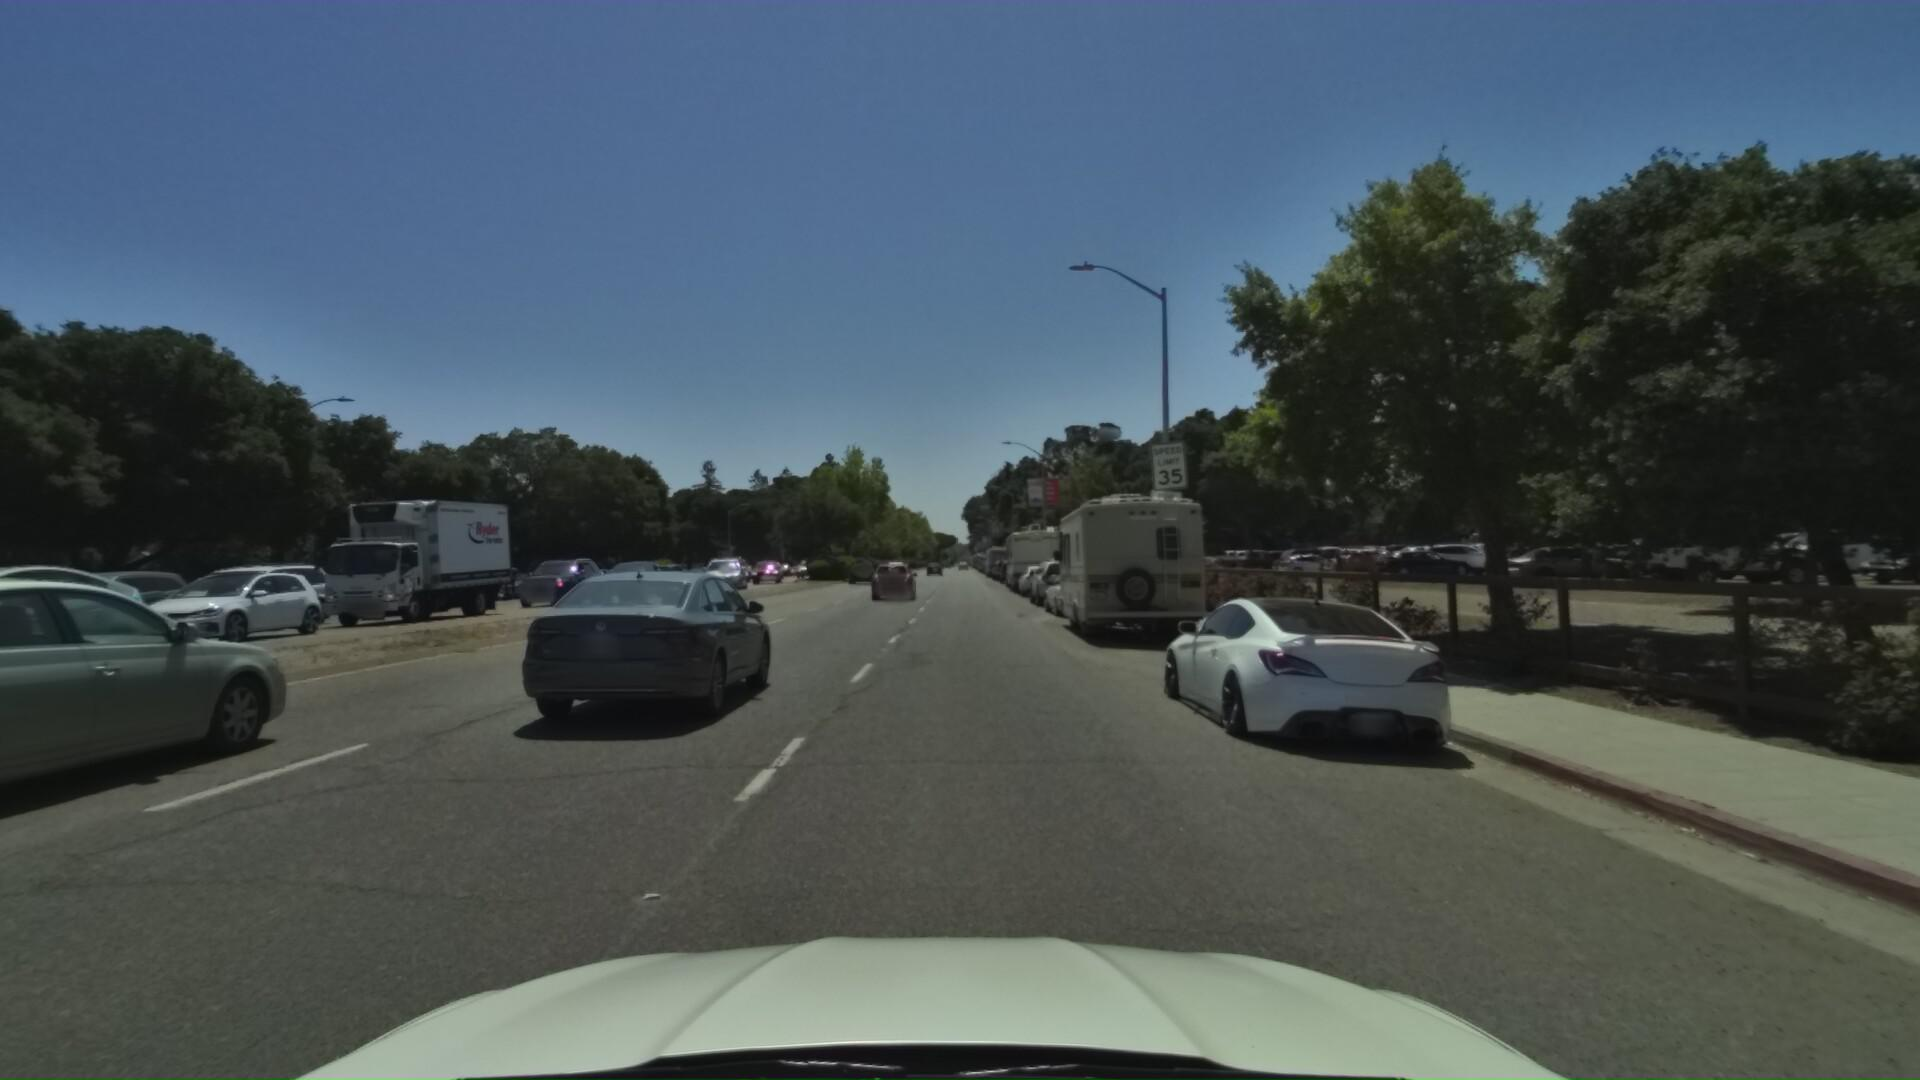car: (0, 564, 313, 943), (1149, 572, 1522, 800), (498, 560, 785, 752), (0, 559, 136, 728), (95, 563, 322, 645), (0, 560, 206, 647), (121, 553, 328, 632), (501, 549, 607, 603), (1040, 556, 1120, 616), (1026, 546, 1095, 601), (585, 554, 667, 593), (491, 562, 562, 597), (866, 556, 915, 601), (0, 538, 9, 752), (698, 550, 746, 589), (1014, 555, 1063, 593), (645, 559, 688, 587), (750, 555, 785, 582), (845, 560, 876, 585), (997, 549, 1025, 575)
other_vehicle: (1054, 480, 1221, 640), (1002, 506, 1067, 588)
truck: (284, 481, 520, 624)
